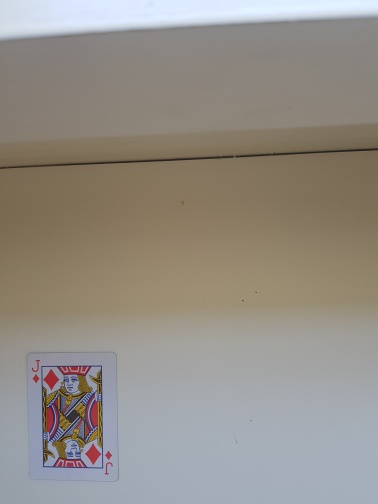jack: (24, 351, 119, 484)
